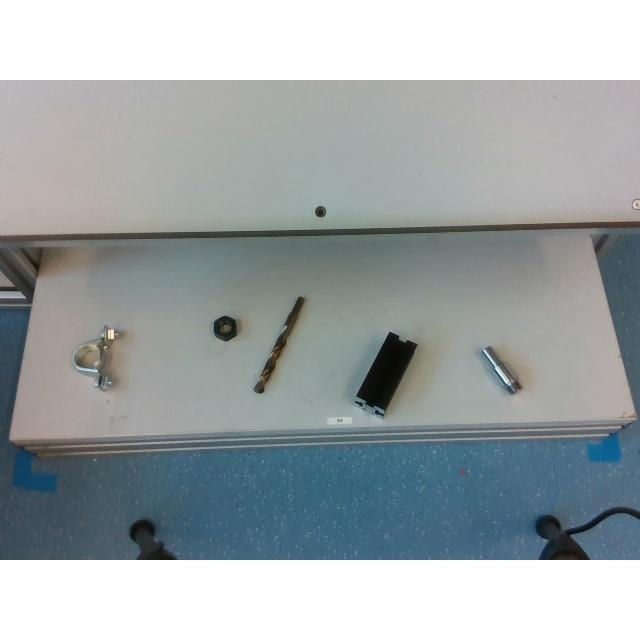Axis2: (481, 346, 521, 392)
Drill: (254, 296, 306, 392)
Housing: (72, 326, 120, 386)
M20: (213, 316, 237, 340)
S40_40_B: (355, 332, 417, 416)
